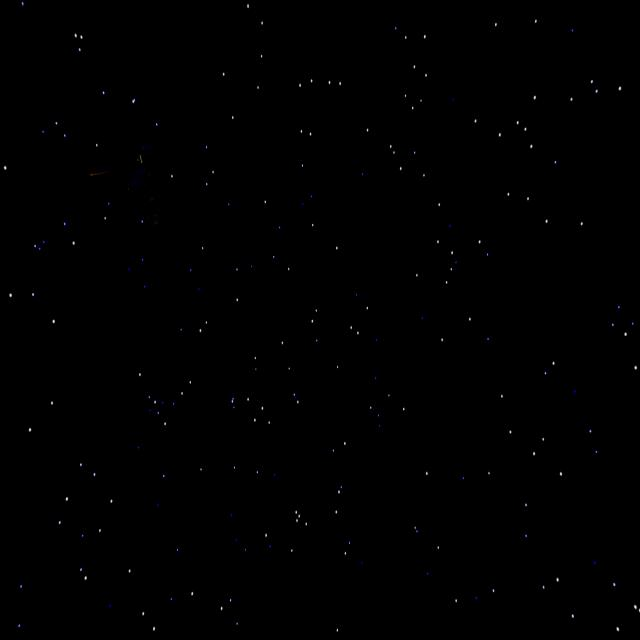medium_debris: (89, 128, 175, 241)
